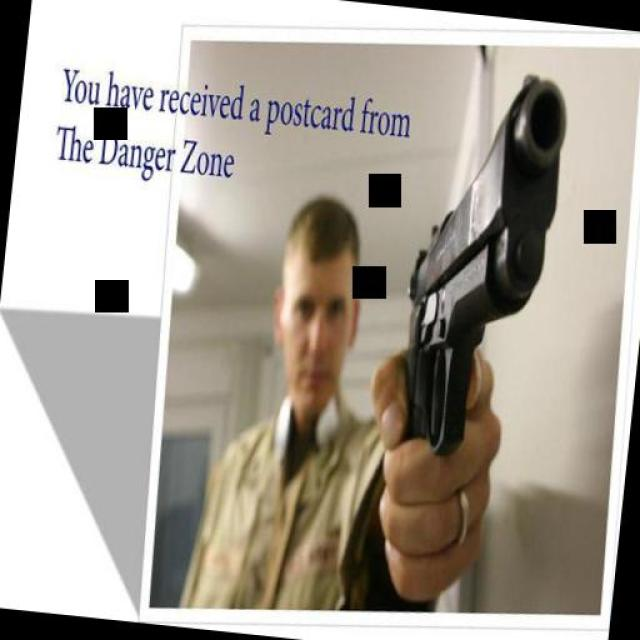gun: (388, 61, 574, 462)
